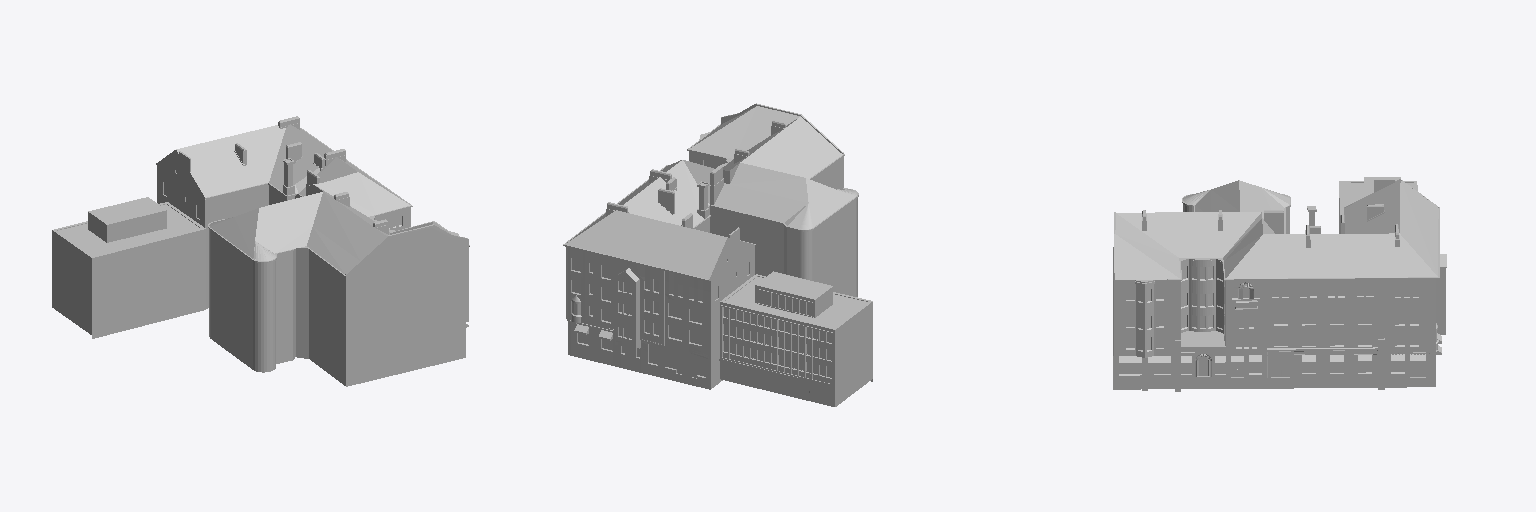
The model's file is MastersceneTrees_NoCityhall_NoSkydome_90degree_pieces_kortteli_6.obj.
The picture shows the model from 3 angles: view 1: azimuth 30°, elevation 25°; view 2: azimuth 150°, elevation 25°; view 3: azimuth 270°, elevation 25°; orthographic projection.
Parts seen in each view (by area): view 1: pakkahuoneenkatu_12; view 2: pakkahuoneenkatu_12; view 3: pakkahuoneenkatu_12.
Part boxes in pixels (bbox=[...]): pakkahuoneenkatu_12: bbox=[52, 116, 469, 386]; pakkahuoneenkatu_12: bbox=[563, 103, 872, 406]; pakkahuoneenkatu_12: bbox=[1113, 177, 1446, 391].
Bounding box in the file's own units: 48.65 × 24.61 × 51.74.